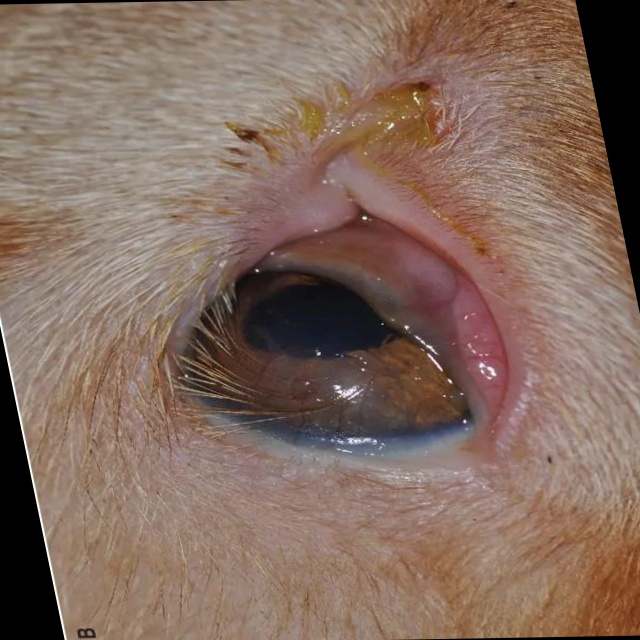eye_infection: (119, 179, 560, 480)
